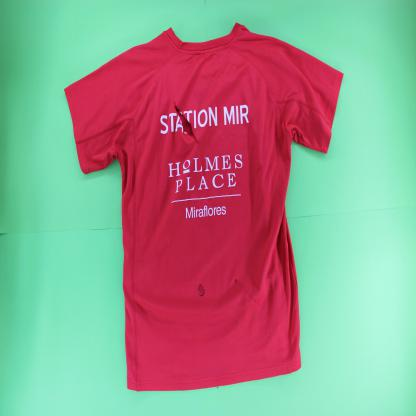hole: (173, 98, 200, 145), (232, 277, 265, 308)
